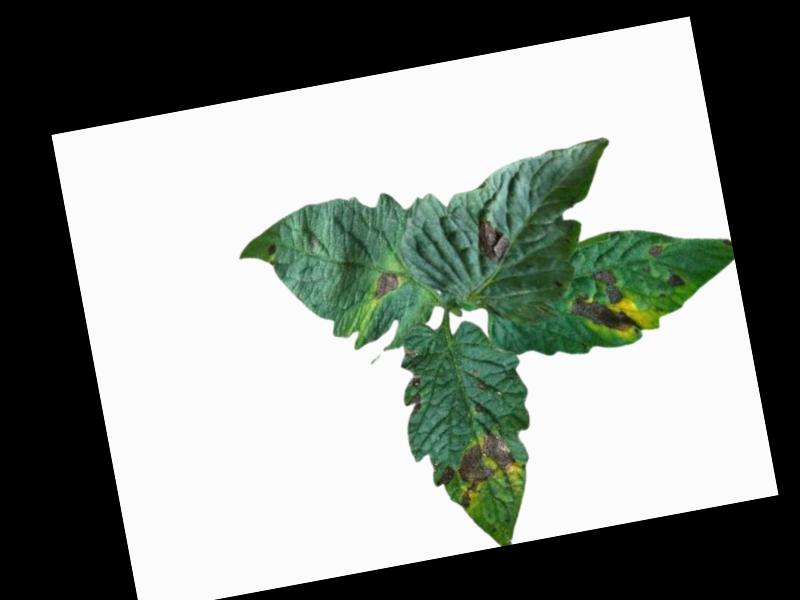Early_blight: (446, 428, 523, 510), (565, 262, 642, 341), (473, 214, 513, 268), (399, 374, 427, 415), (368, 269, 402, 299), (431, 463, 458, 490), (662, 270, 687, 290), (646, 242, 664, 256), (263, 240, 276, 256)
